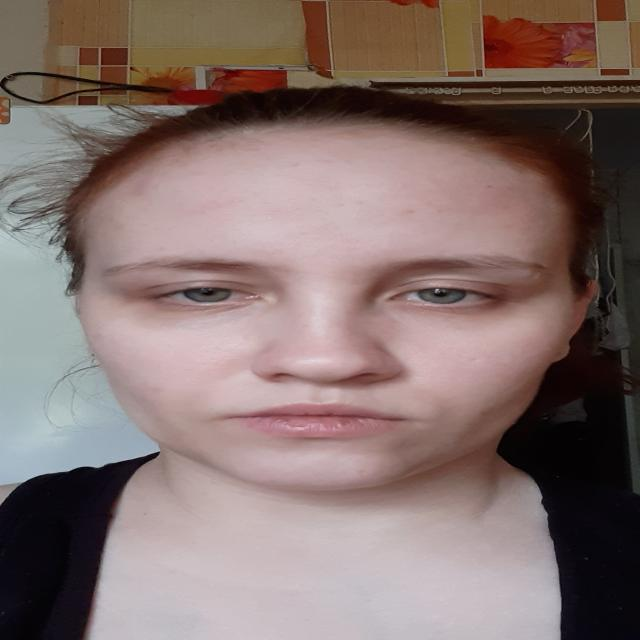acne: (130, 180, 152, 194), (148, 384, 168, 393), (352, 199, 369, 206), (401, 209, 416, 216), (434, 207, 446, 214)
pores: (406, 342, 476, 378), (193, 339, 243, 374)
